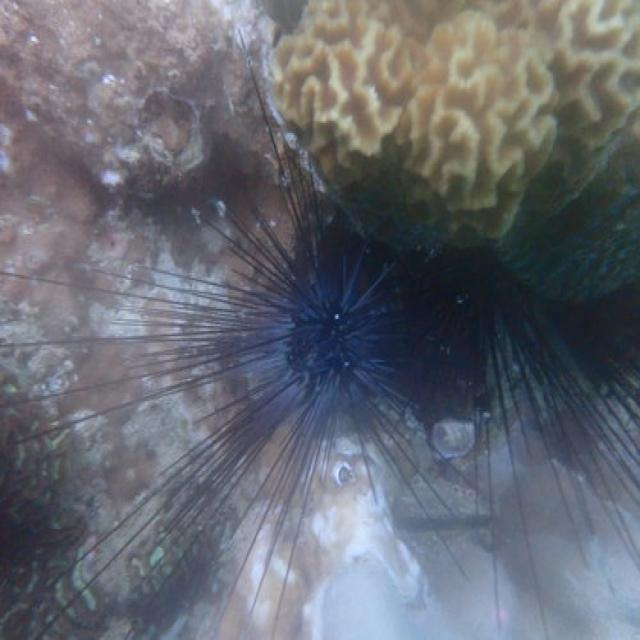Urchin: (20, 37, 472, 618), (367, 178, 640, 626)
